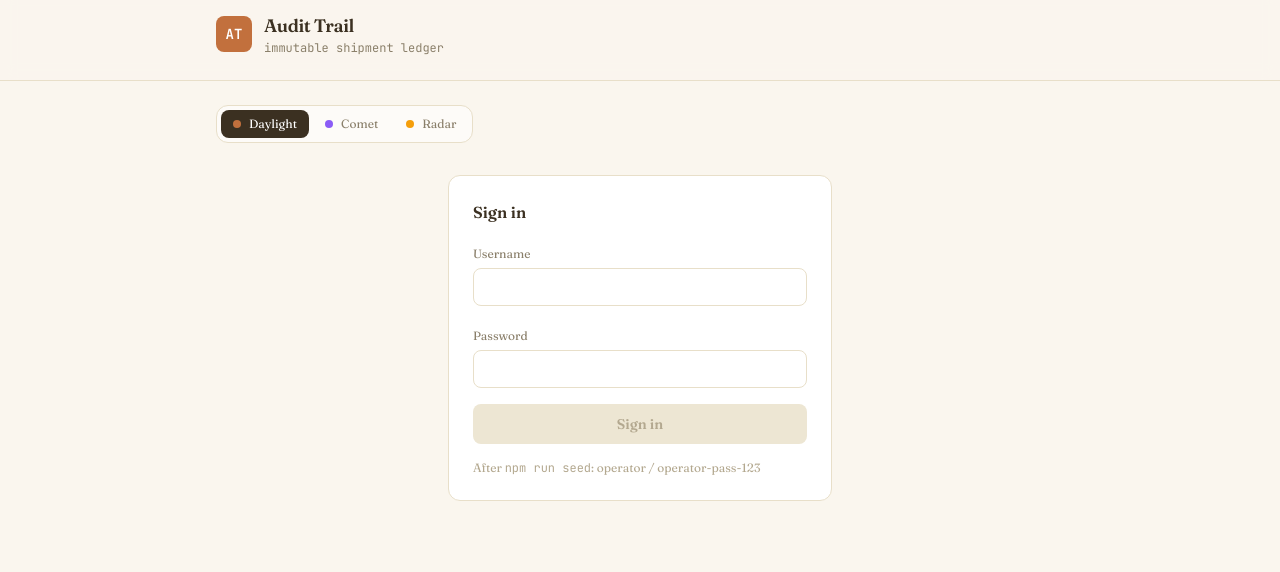
Test: App › shows a readable error for wrong credentials
Type "operator" into the field labelled "Username". click: (640, 287)
box: 473,268 -> 807,306
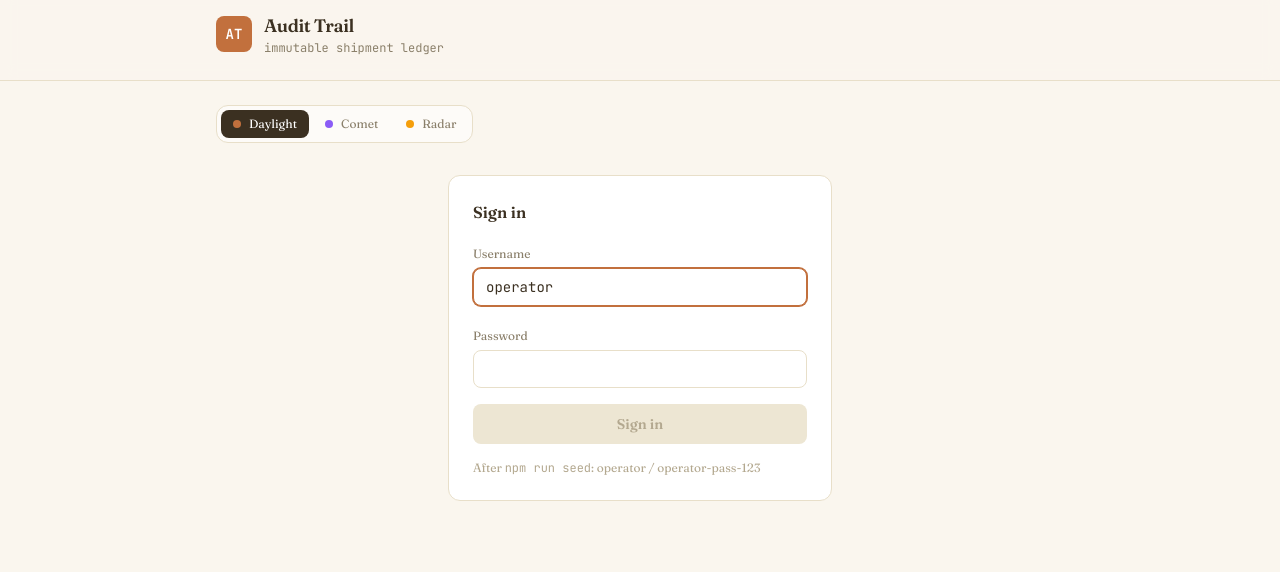
Type "nope" into the password field labelled "Password". click: (640, 369)
box: 473,350 -> 807,388
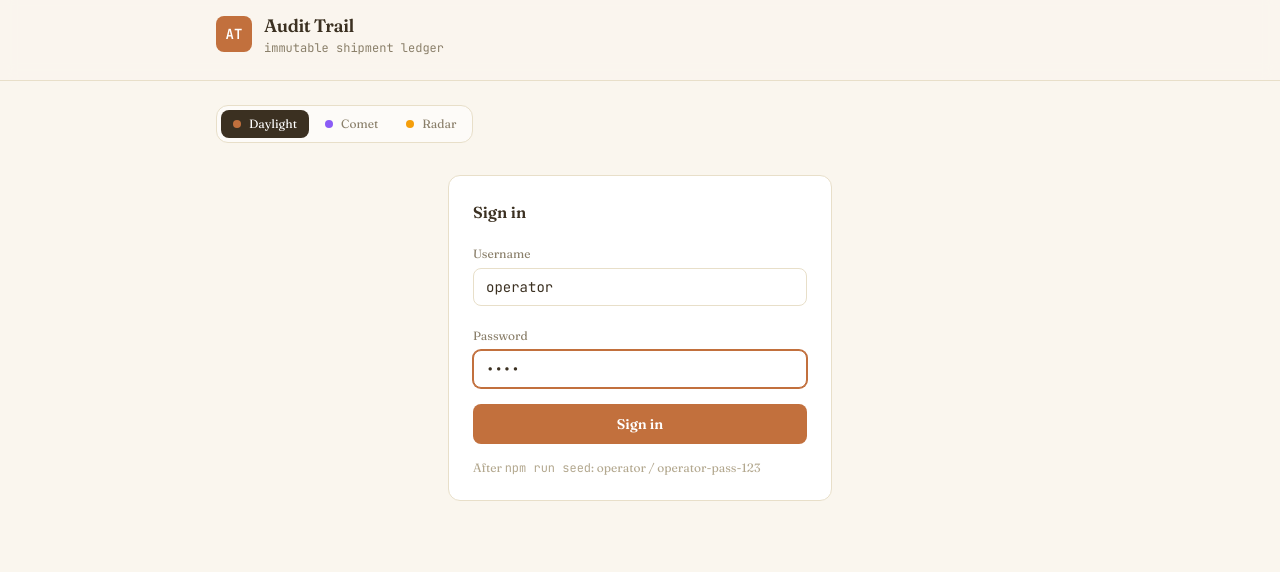
Click the button "Sign in". click: (640, 424)
box: 473,404 -> 807,444
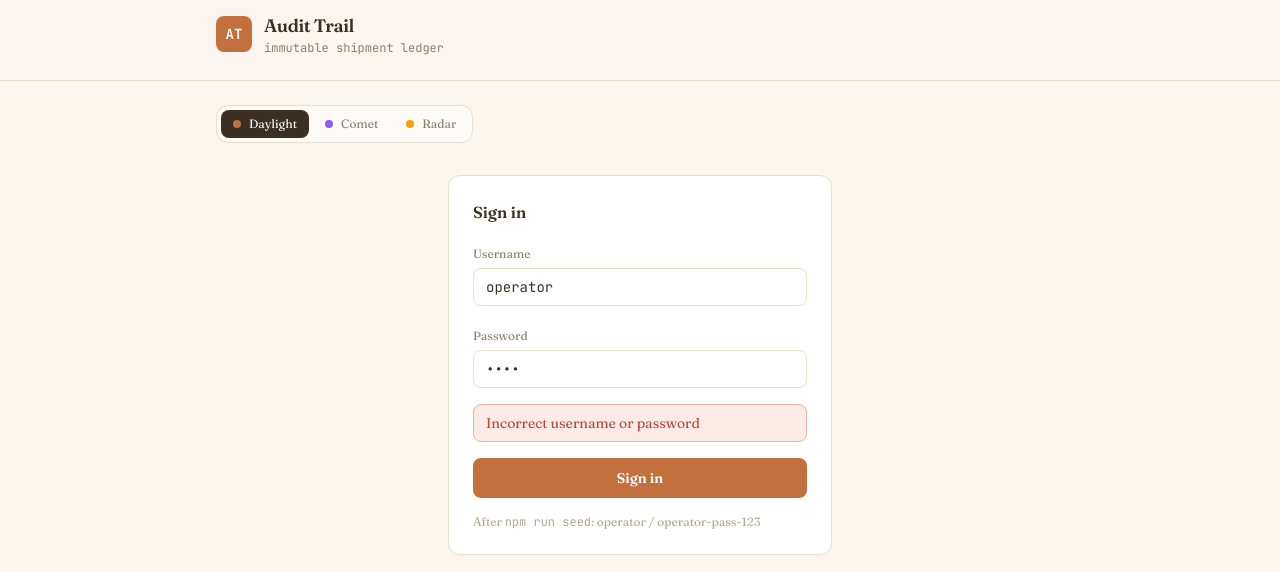
Result: the message reads "Incorrect username or password" at 486,414 -> 700,432
